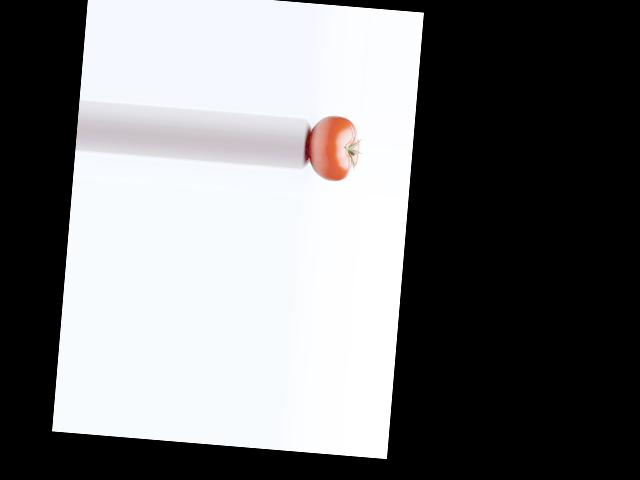tomato: (306, 113, 361, 183)
